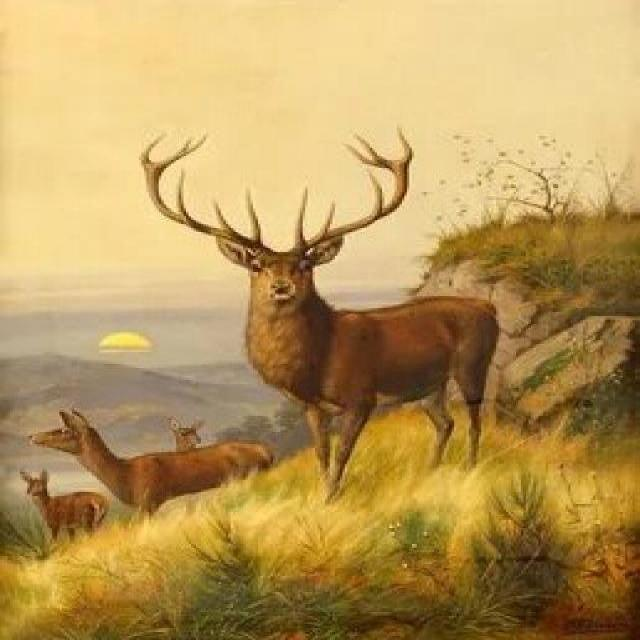deer: (106, 117, 555, 488), (34, 394, 301, 554)
